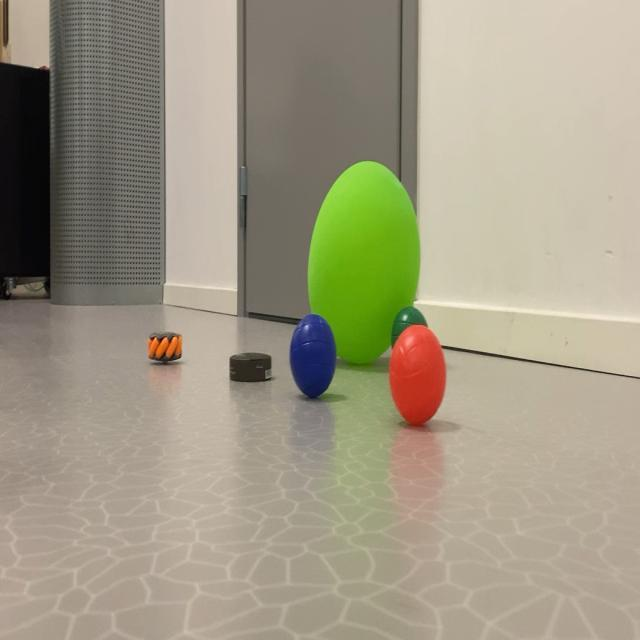blue ball: (290, 324, 332, 395)
green ball: (392, 304, 434, 326)
red ball: (392, 346, 444, 434)
